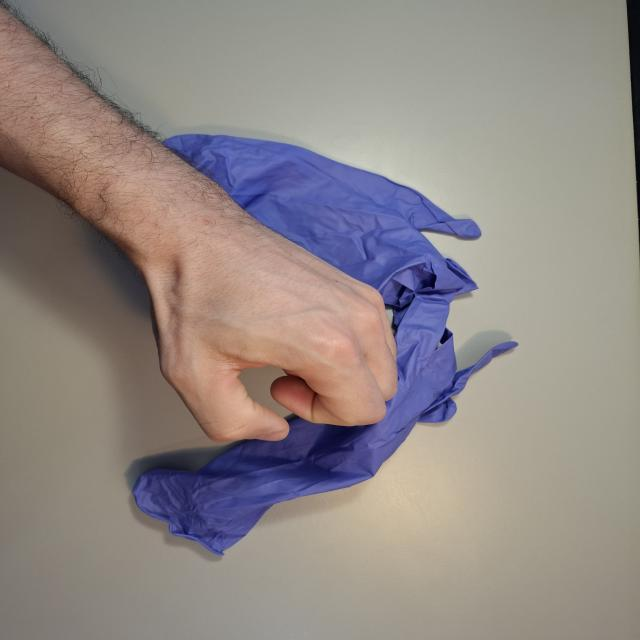glove_off: (134, 219, 402, 444)
